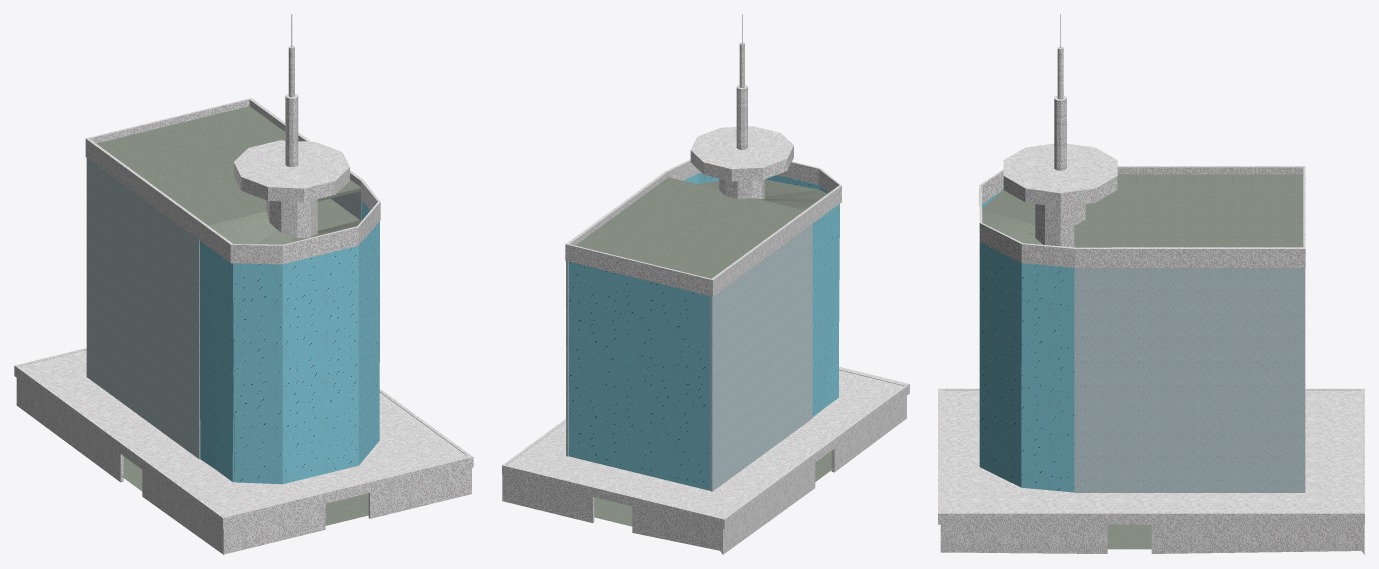
File: BGN_PARKING GARAGE 1.fbx
3 views of the same model, side by side, from view 1: azimuth 30°, elevation 25°; view 2: azimuth 150°, elevation 25°; view 3: azimuth 270°, elevation 25° (orthographic). The views are drawn at different scales.
Parts seen in each view (by area): view 1: BGN_PARKING_GARAGE_1; view 2: BGN_PARKING_GARAGE_1; view 3: BGN_PARKING_GARAGE_1.
Part boxes in pixels (x1,y1,x2,y2): BGN_PARKING_GARAGE_1: (14, 14, 473, 554); BGN_PARKING_GARAGE_1: (502, 14, 909, 554); BGN_PARKING_GARAGE_1: (938, 14, 1364, 554).
Size of the model in its own units: 2474 by 4451 by 3567.
